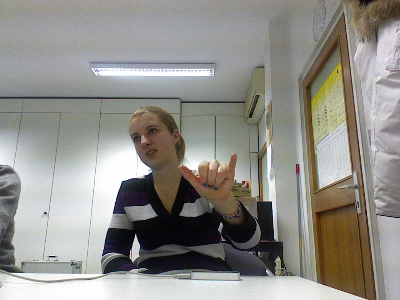六六六: (177, 153, 237, 201)
